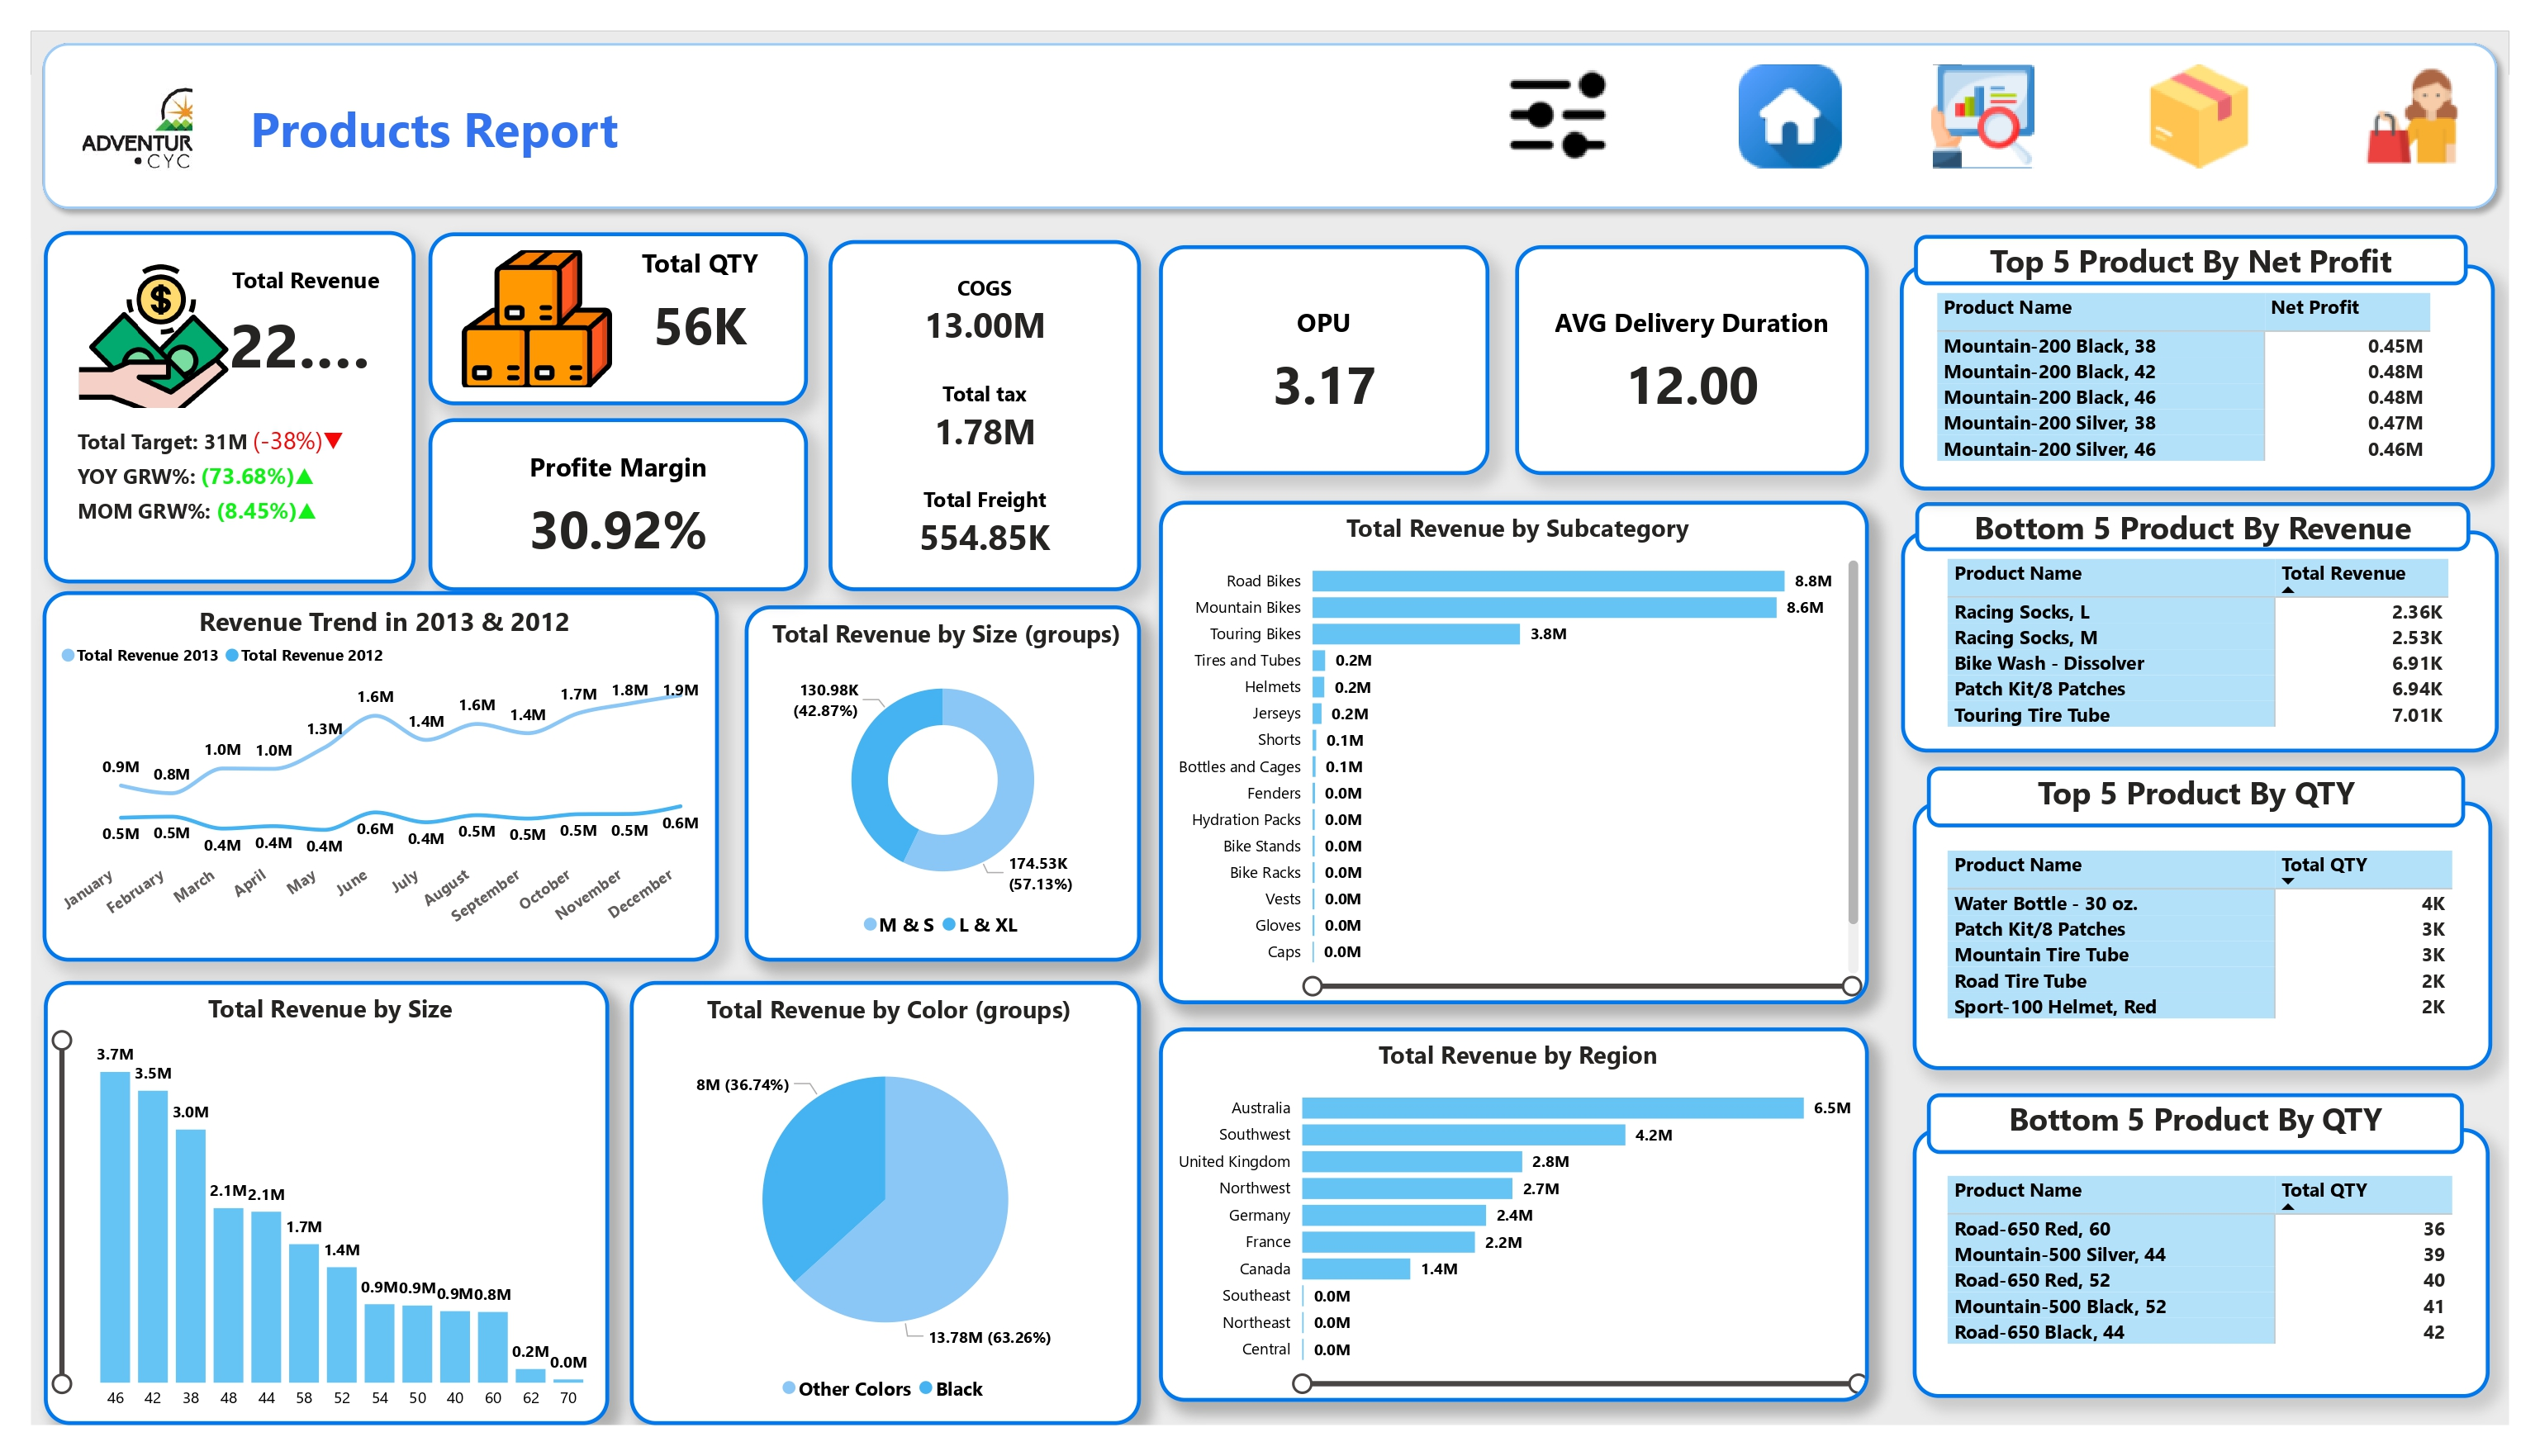

This screenshot's page, from the dashboard's own definition file:
{"tool":"powerbi","page":{"name":"Product ","canvas":[1920,1080],"ordinal":2},"visuals":[{"type":"shape","box":[0,0,1920,146.7],"z":0},{"type":"group","id":"g1","title":"Group 1","box":[1447.8,157.8,461.1,197.8],"z":0,"group":"g4"},{"type":"shape","box":[1447.8,180.5,461.1,175.1],"z":0,"group":"g1"},{"type":"shape","box":[1449.5,387.3,462.6,171.9],"z":0,"group":"g2"},{"type":"shape","box":[1457.5,597,448.7,208.2],"z":0,"group":"g3"},{"type":"shape","box":[1457.5,849.6,447.5,208.9],"z":0,"group":"g5"},{"type":"actionButton","box":[1452.8,17.5,117.5,95],"z":1000},{"type":"textbox","box":[1459.1,157.8,428.4,39.2],"z":1000,"group":"g1"},{"type":"pivotTable","fields":{"Rows":["Dim_Product.Product Name"],"Values":["My Measures.Net Profit"]},"box":[1472.2,201.1,405.6,141.1],"z":1000,"group":"g4"},{"type":"textbox","box":[1460.9,365,429.8,38.5],"z":1000,"group":"g2"},{"type":"textbox","box":[1468.5,570,416.9,46.6],"z":1000,"group":"g3"},{"type":"textbox","box":[1468.5,822.5,415.8,46.8],"z":1000,"group":"g5"},{"type":"actionButton","box":[1607,17.5,145,95],"z":2000},{"type":"image","box":[30,35,105,90],"z":3000},{"type":"actionButton","box":[1092.5,16.2,179.4,97.5],"z":4000},{"type":"textbox","box":[165,50,335,55],"z":5000},{"type":"clusteredBarChart","fields":{"Category":["Dim_Product.Product Subcategory Name","Dim_Product.Product Name"],"Y":["My Measures.Total Revenue"]},"box":[874,364,550,390],"z":6000},{"type":"actionButton","box":[1788.8,12.5,112.5,105],"z":7000},{"type":"pieChart","fields":{"Category":["Dim_Product.Color (groups)"],"Y":["My Measures.Total Revenue"]},"box":[464,736,396,344],"z":8000},{"type":"clusteredColumnChart","fields":{"Category":["Dim_Product.Size"],"Y":["My Measures.Total Revenue"]},"box":[10,736,438,344],"z":9000},{"type":"cardVisual","fields":{"Data":["My Measures.Total Revenue"]},"box":[10,155,288,273],"z":10000},{"type":"group","id":"g2","title":"Group 1","box":[1449.5,365,464.2,194.1],"z":11000},{"type":"group","id":"g3","title":"Group 1","box":[1457.5,570,447.5,237.5],"z":12000},{"type":"cardVisual","title":"Total Quantiy","fields":{"Data":["My Measures.Total QTY"]},"box":[308,156,294,134],"z":13000},{"type":"cardVisual","fields":{"Data":["My Measures.COGS","My Measures.Total tax","My Measures.Total Freight"]},"box":[618,162,242,272],"z":14000},{"type":"pivotTable","fields":{"Rows":["Dim_Product.Product Name"],"Values":["My Measures.Total Revenue"]},"box":[1480,406.7,411.1,141.1],"z":15000},{"type":"group","id":"g4","title":"TOP 5Producty by Revenue","box":[1447.8,157.8,461.1,197.8],"z":16000},{"type":"group","id":"g5","title":"Group 1","box":[1457.5,822.5,447.5,240],"z":17000},{"type":"pivotTable","fields":{"Rows":["Dim_Product.Product Name"],"Values":["My Measures.Total QTY"]},"box":[1480,632.5,420,140],"z":18000},{"type":"pivotTable","fields":{"Rows":["Dim_Product.Product Name"],"Values":["My Measures.Total QTY"]},"box":[1480,885,420,140],"z":19000},{"type":"donutChart","fields":{"Category":["Dim_Product.Size (groups)"],"Y":["My Measures.Total Revenue"]},"box":[552.8,444.8,307.5,276.4],"z":20000},{"type":"cardVisual","title":"Total Quantiy","fields":{"Data":["My Measures.Profite Margin"]},"box":[308,300,294,134],"z":21000},{"type":"clusteredBarChart","fields":{"Category":["Fact_Sales.Group","Fact_Sales.Region"],"Y":["My Measures.Total Revenue"]},"box":[874,772,550,290],"z":22000},{"type":"cardVisual","title":"Total Quantiy","fields":{"Data":["My Measures.AVG Delivery Duration"]},"box":[1150,166,274,178],"z":23000},{"type":"cardVisual","title":"Total Quantiy","fields":{"Data":["My Measures.OPU"]},"box":[874,166,256,178],"z":24000},{"type":"actionButton","box":[1308.6,17.5,107.5,95],"z":25000},{"type":"lineChart","title":"Revenue Trend in 2013 & 2012","fields":{"Category":["Dim_Date.FullDateAlternateKey.Variation.Date Hierarchy.Year","Dim_Date.FullDateAlternateKey.Variation.Date Hierarchy.Quarter","Dim_Date.FullDateAlternateKey.Variation.Date Hierarchy.Month"],"Y":["My Measures.Total Revenue 2013","My Measures.Total Revenue 2012"]},"box":[9.2,433.8,523.5,287.4],"z":27000}]}

Visuals, with their boxes on the page's 1920x1080 design canvas (x1, y1, x2, y2). These are canvas units, not pixel positions in the 2540x1456 screenshot, which may show the page scaled, cropped or inside an application window:
shape: rect(0, 0, 1920, 147)
"Group 1" group: rect(1448, 158, 1909, 356)
shape: rect(1448, 180, 1909, 356)
shape: rect(1450, 387, 1912, 559)
shape: rect(1458, 597, 1906, 805)
shape: rect(1458, 850, 1905, 1058)
actionButton: rect(1453, 18, 1570, 112)
textbox: rect(1459, 158, 1888, 197)
pivotTable - Dim_Product.Product Name x My Measures.Net Profit: rect(1472, 201, 1878, 342)
textbox: rect(1461, 365, 1891, 404)
textbox: rect(1468, 570, 1885, 617)
textbox: rect(1468, 822, 1884, 869)
actionButton: rect(1607, 18, 1752, 112)
image: rect(30, 35, 135, 125)
actionButton: rect(1092, 16, 1272, 114)
textbox: rect(165, 50, 500, 105)
clusteredBarChart - Dim_Product.Product Subcategory Name x Dim_Product.Product Name: rect(874, 364, 1424, 754)
actionButton: rect(1789, 12, 1901, 118)
pieChart - Dim_Product.Color (groups) x My Measures.Total Revenue: rect(464, 736, 860, 1080)
clusteredColumnChart - Dim_Product.Size x My Measures.Total Revenue: rect(10, 736, 448, 1080)
cardVisual - My Measures.Total Revenue: rect(10, 155, 298, 428)
"Group 1" group: rect(1450, 365, 1914, 559)
"Group 1" group: rect(1458, 570, 1905, 808)
"Total Quantiy" cardVisual: rect(308, 156, 602, 290)
cardVisual - My Measures.COGS x My Measures.Total tax: rect(618, 162, 860, 434)
pivotTable - Dim_Product.Product Name x My Measures.Total Revenue: rect(1480, 407, 1891, 548)
"TOP 5Producty by Revenue" group: rect(1448, 158, 1909, 356)
"Group 1" group: rect(1458, 822, 1905, 1062)
pivotTable - Dim_Product.Product Name x My Measures.Total QTY: rect(1480, 632, 1900, 772)
pivotTable - Dim_Product.Product Name x My Measures.Total QTY: rect(1480, 885, 1900, 1025)
donutChart - Dim_Product.Size (groups) x My Measures.Total Revenue: rect(553, 445, 860, 721)
"Total Quantiy" cardVisual: rect(308, 300, 602, 434)
clusteredBarChart - Fact_Sales.Group x Fact_Sales.Region: rect(874, 772, 1424, 1062)
"Total Quantiy" cardVisual: rect(1150, 166, 1424, 344)
"Total Quantiy" cardVisual: rect(874, 166, 1130, 344)
actionButton: rect(1309, 18, 1416, 112)
"Revenue Trend in 2013 & 2012" lineChart: rect(9, 434, 533, 721)
